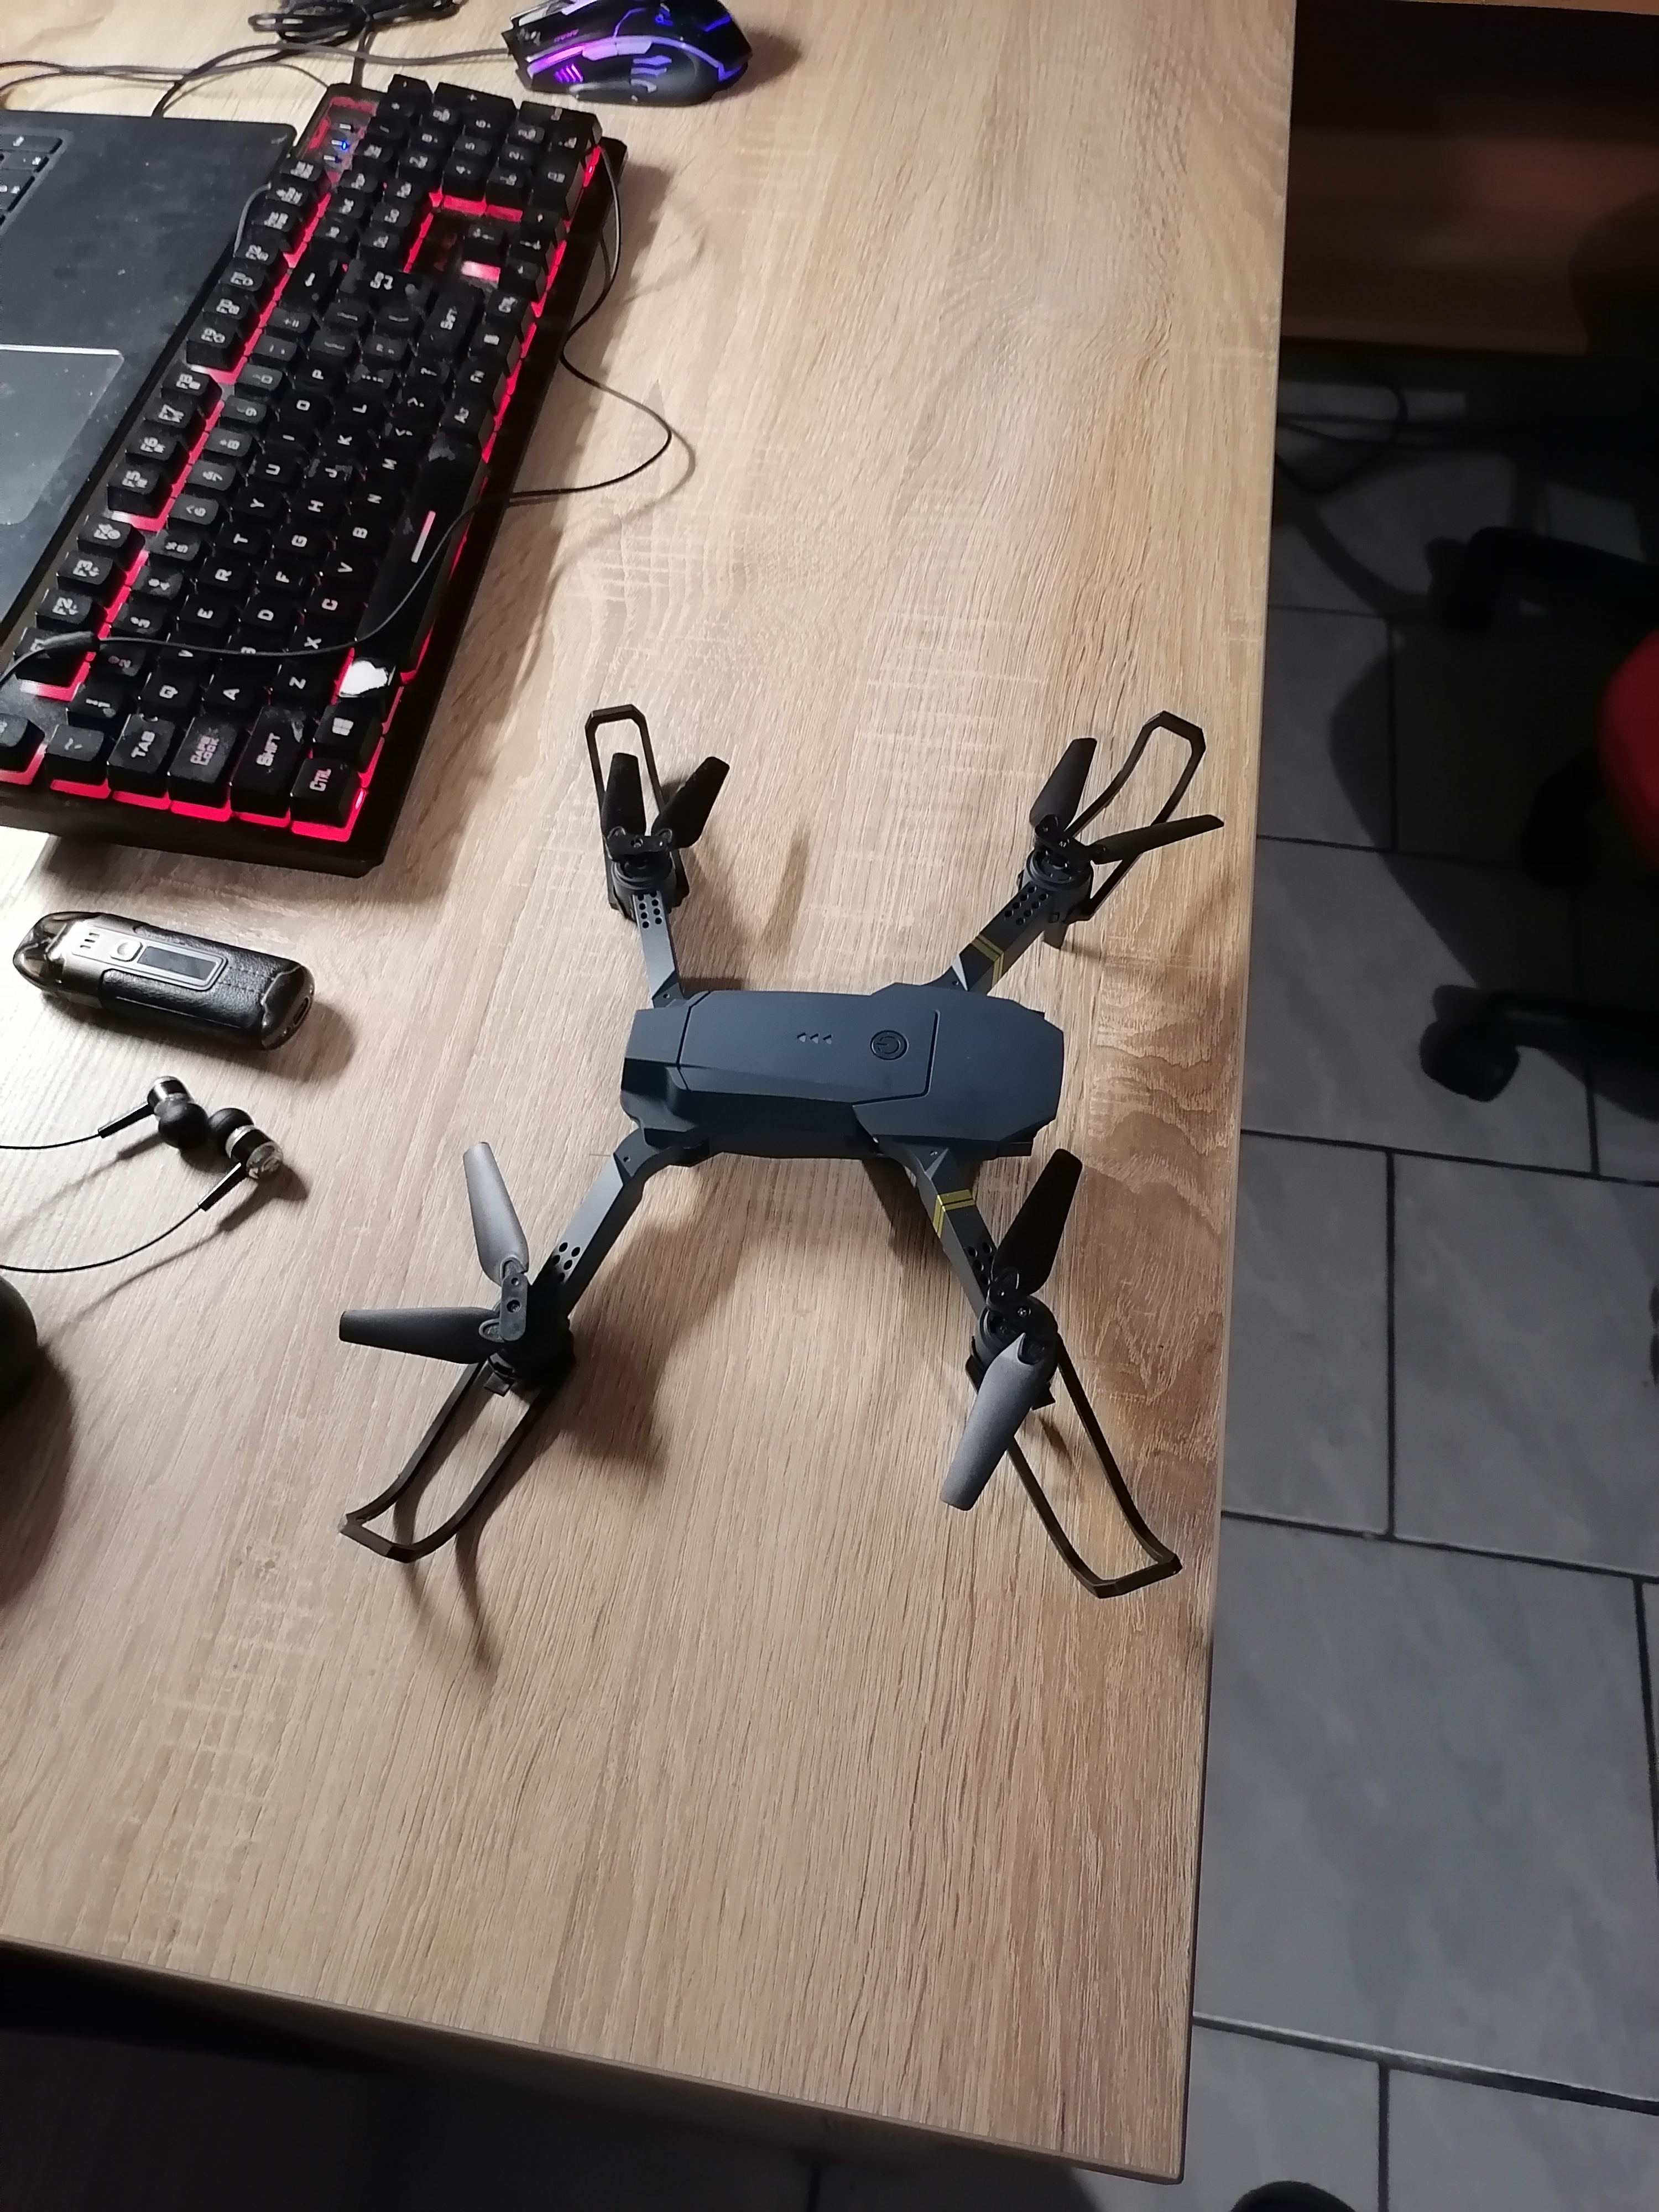drone: (451, 691, 1169, 1696)
